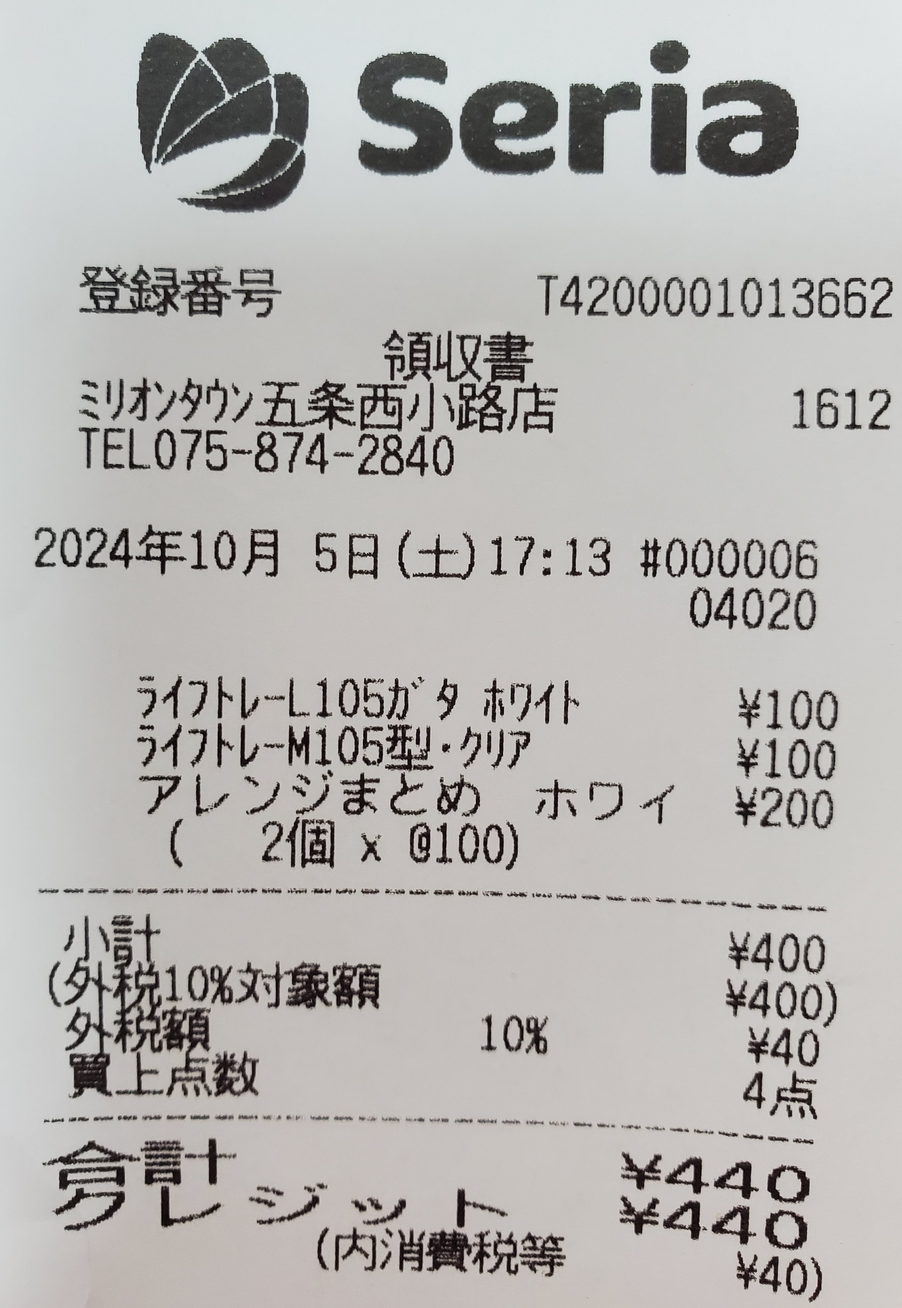Date: (23, 511, 389, 592)
Shopname: (343, 21, 841, 196)
Telnum: (149, 424, 466, 487)
Totalpay: (44, 1140, 831, 1198)
